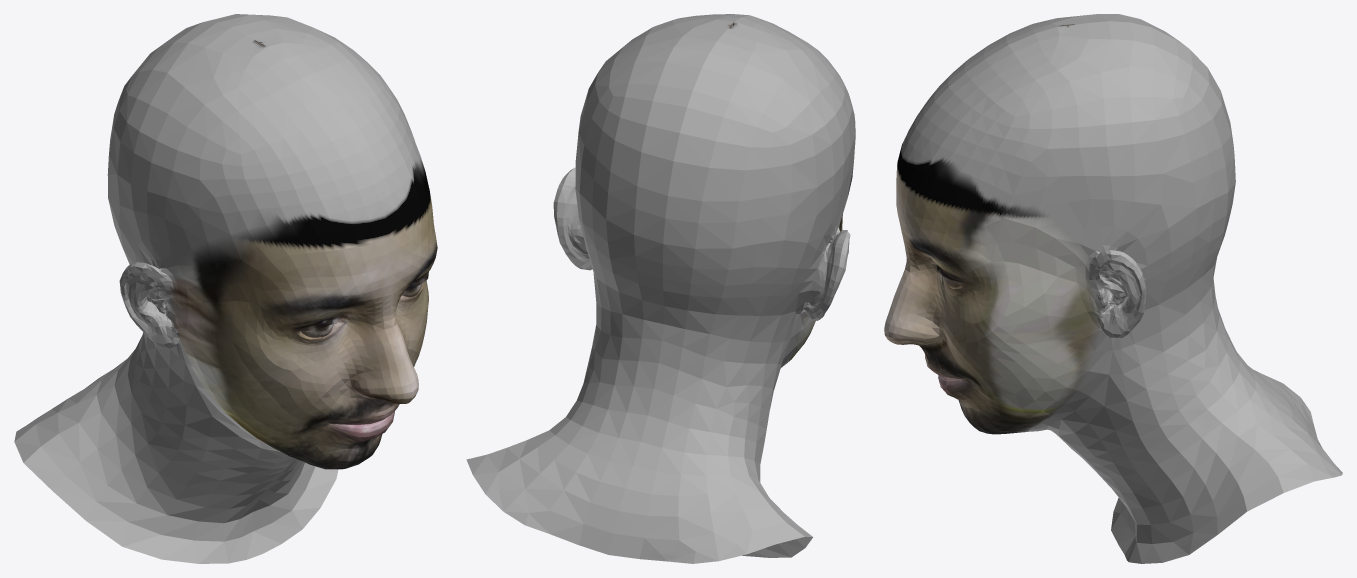
Rendered from ezgif-frame-029.obj.
The picture shows the model from 3 angles, left to right: view 1: azimuth 30°, elevation 25°; view 2: azimuth 150°, elevation 25°; view 3: azimuth 270°, elevation 25°; orthographic projection. The views are drawn at different scales.
Size of the model in its own units: 0.2062 by 0.3276 by 0.2644.
1 material, 1 textured.
